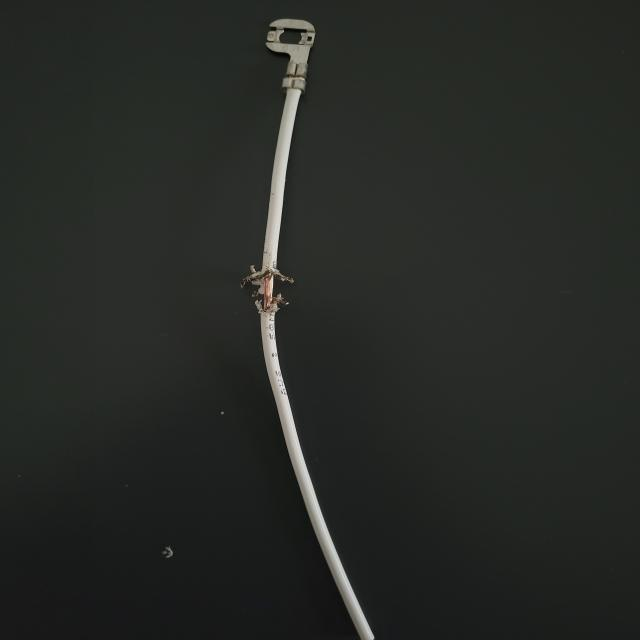defect: (166, 203, 400, 389)
